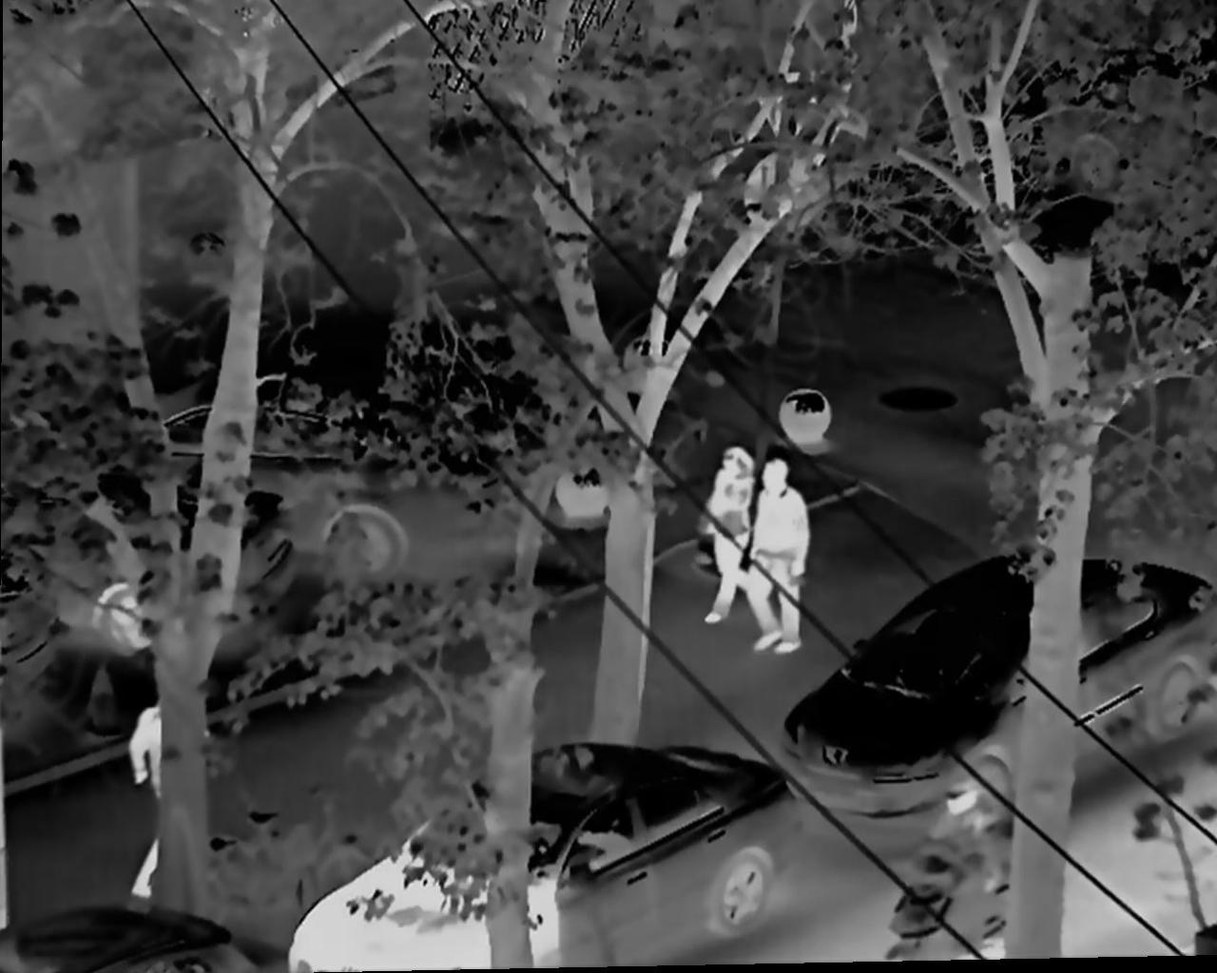person: (125, 690, 211, 896), (752, 455, 819, 658), (695, 444, 756, 633)
